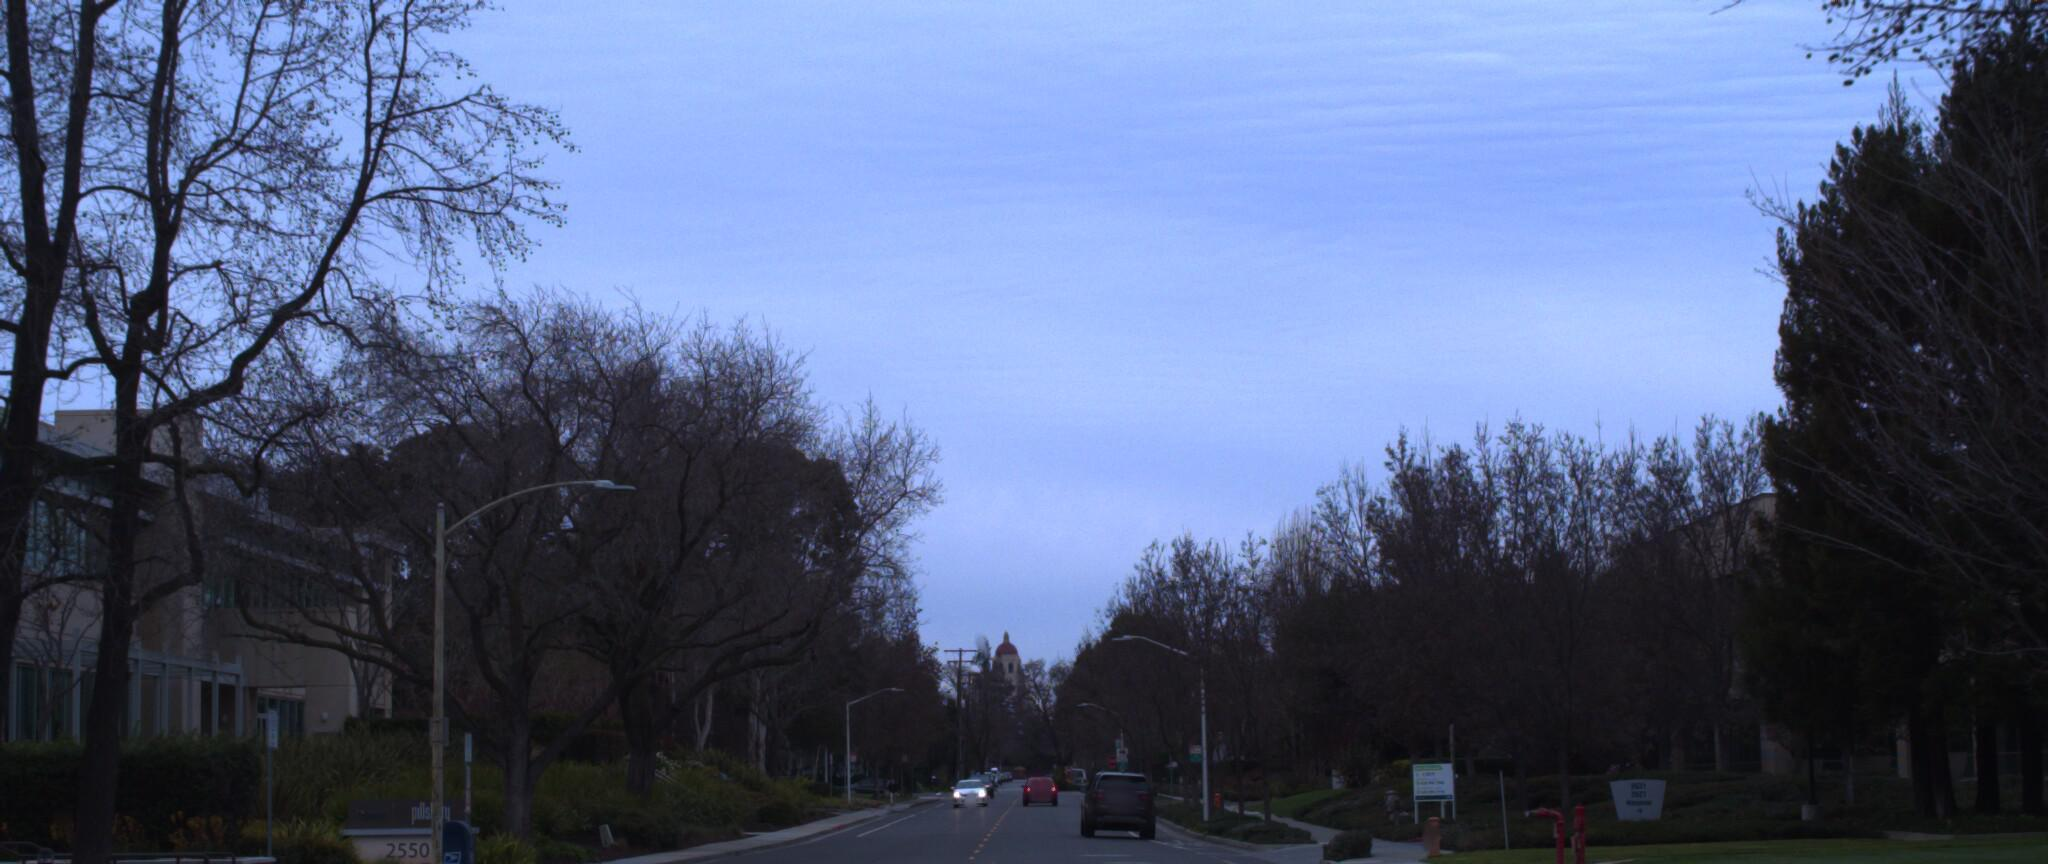car: (1083, 771, 1161, 842)
